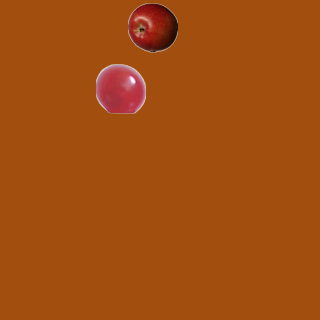Apple Braeburn: (127, 2, 177, 52)
Redcurrant: (95, 63, 145, 113)
